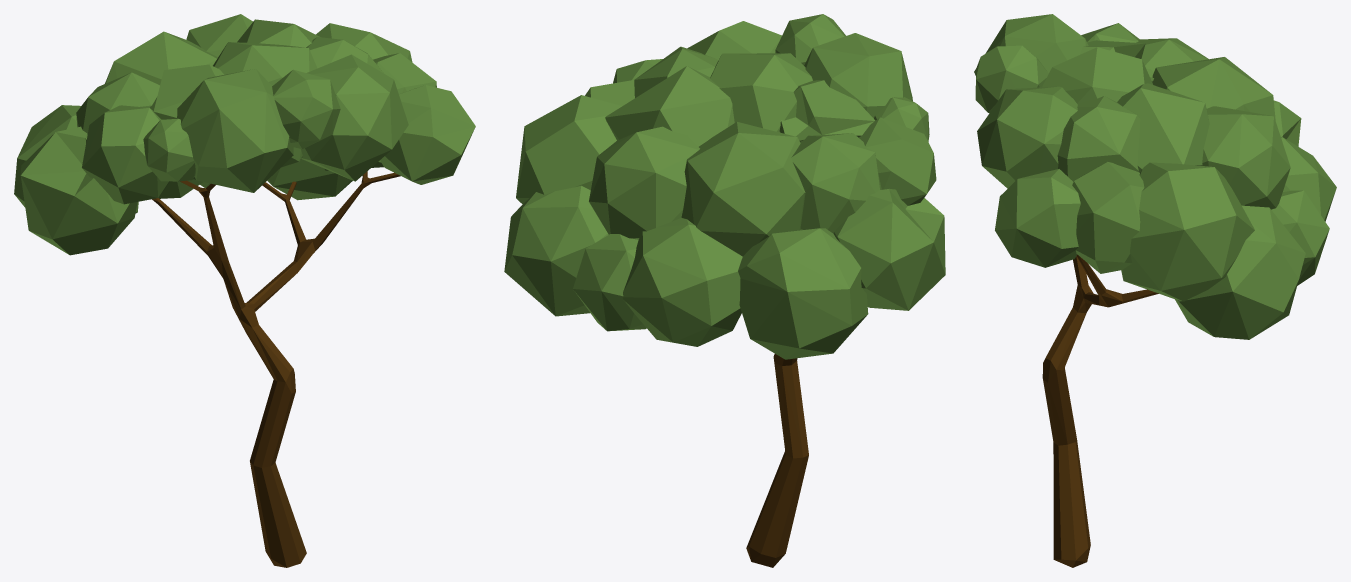
File: Tree1.fbx
The picture shows the model from 3 angles, left to right: view 1: azimuth 30°, elevation 25°; view 2: azimuth 150°, elevation 25°; view 3: azimuth 270°, elevation 25°; orthographic projection. The views are drawn at different scales.
Parts seen in each view (by area): view 1: Cube, Sphere.004, Sphere, Sphere.018, Sphere.011, Sphere.003, Sphere.019, Sphere.017, Sphere.015, Sphere.005, Sphere.002, Sphere.006 (+7 smaller); view 2: Sphere.001, Sphere.015, Sphere.016, Sphere, Sphere.006, Sphere.013, Sphere.010, Sphere.002, Cube, Sphere.014, Sphere.017, Sphere.004 (+9 smaller); view 3: Sphere.010, Sphere.006, Cube, Sphere.018, Sphere.011, Sphere.013, Sphere.009, Sphere.014, Sphere.012, Sphere.015, Sphere.017, Sphere.004 (+7 smaller).
Part boxes in pixels (x1,y1,x2,y2): Cube: (152,171,400,567); Sphere.004: (177,69,293,192); Sphere: (20,126,137,255); Sphere.018: (301,54,408,181); Sphere.011: (380,85,475,184); Sphere.003: (82,105,169,204); Sphere.019: (272,69,340,149); Sphere.017: (213,42,317,167); Sphere.015: (105,31,217,179); Sphere.005: (143,118,195,181); Sphere.002: (76,72,159,134); Sphere.006: (267,159,352,200); Sphere.001: (738,228,868,359); Sphere.015: (681,122,805,256); Sphere.016: (622,218,742,346); Sphere: (833,188,945,310); Sphere.006: (504,185,608,316); Sphere.013: (589,126,699,239); Sphere.010: (516,95,621,204); Sphere.002: (791,133,881,233); Cube: (746,354,808,567); Sphere.014: (605,66,734,146); Sphere.017: (710,53,812,132); Sphere.004: (804,33,912,118); Sphere.010: (1121,162,1254,301); Sphere.006: (1175,205,1305,339); Cube: (1042,254,1158,567); Sphere.018: (977,86,1077,188); Sphere.011: (995,169,1080,267); Sphere.013: (1202,106,1290,209); Sphere.009: (1072,162,1144,273); Sphere.014: (1117,83,1209,172); Sphere.012: (1057,96,1140,181); Sphere.015: (1152,57,1275,120); Sphere.017: (1042,47,1152,103); Sphere.004: (974,14,1088,75).
Size of the model in its own units: 465 by 584 by 375.
